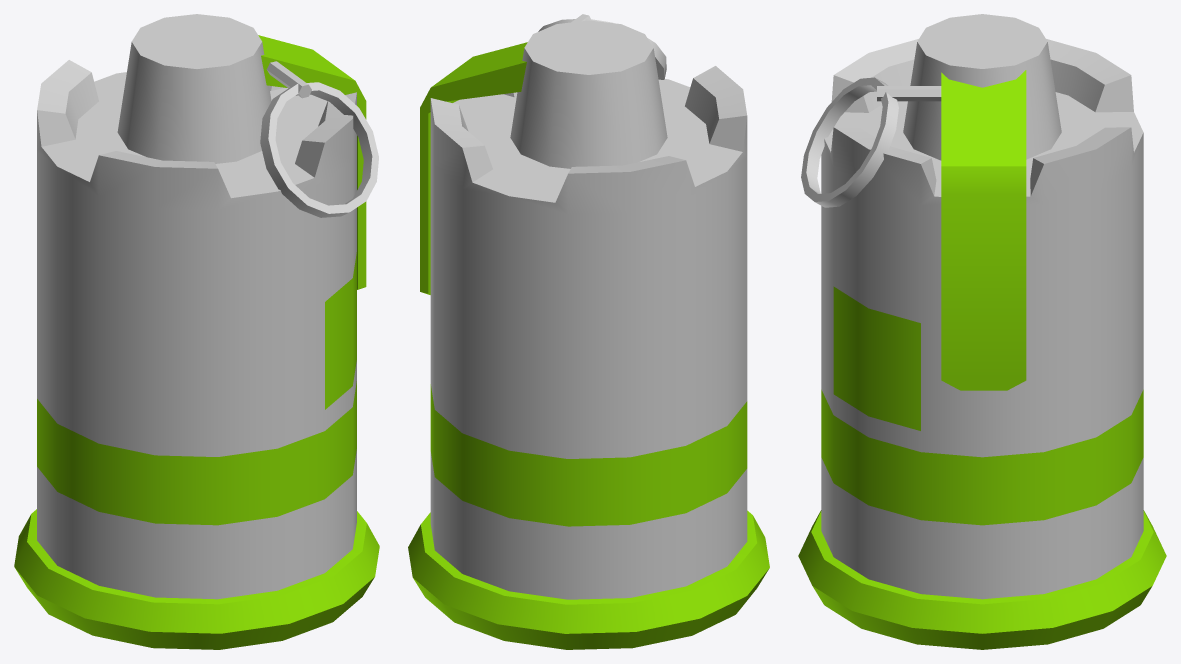
Rendered from Grenade C Mat.fbx.
3 views of the same model, side by side, from view 1: azimuth 30°, elevation 25°; view 2: azimuth 150°, elevation 25°; view 3: azimuth 270°, elevation 25° (orthographic).
Parts seen in each view (by area): view 1: Grenade C Mat; view 2: Grenade C Mat; view 3: Grenade C Mat.
Part boxes in pixels (x1=…): Grenade C Mat: x1=14, y1=14, x2=379, y2=649; Grenade C Mat: x1=408, y1=14, x2=769, y2=649; Grenade C Mat: x1=798, y1=14, x2=1166, y2=649.
Size of the model in its own units: 0.1392 by 0.2234 by 0.1392.
